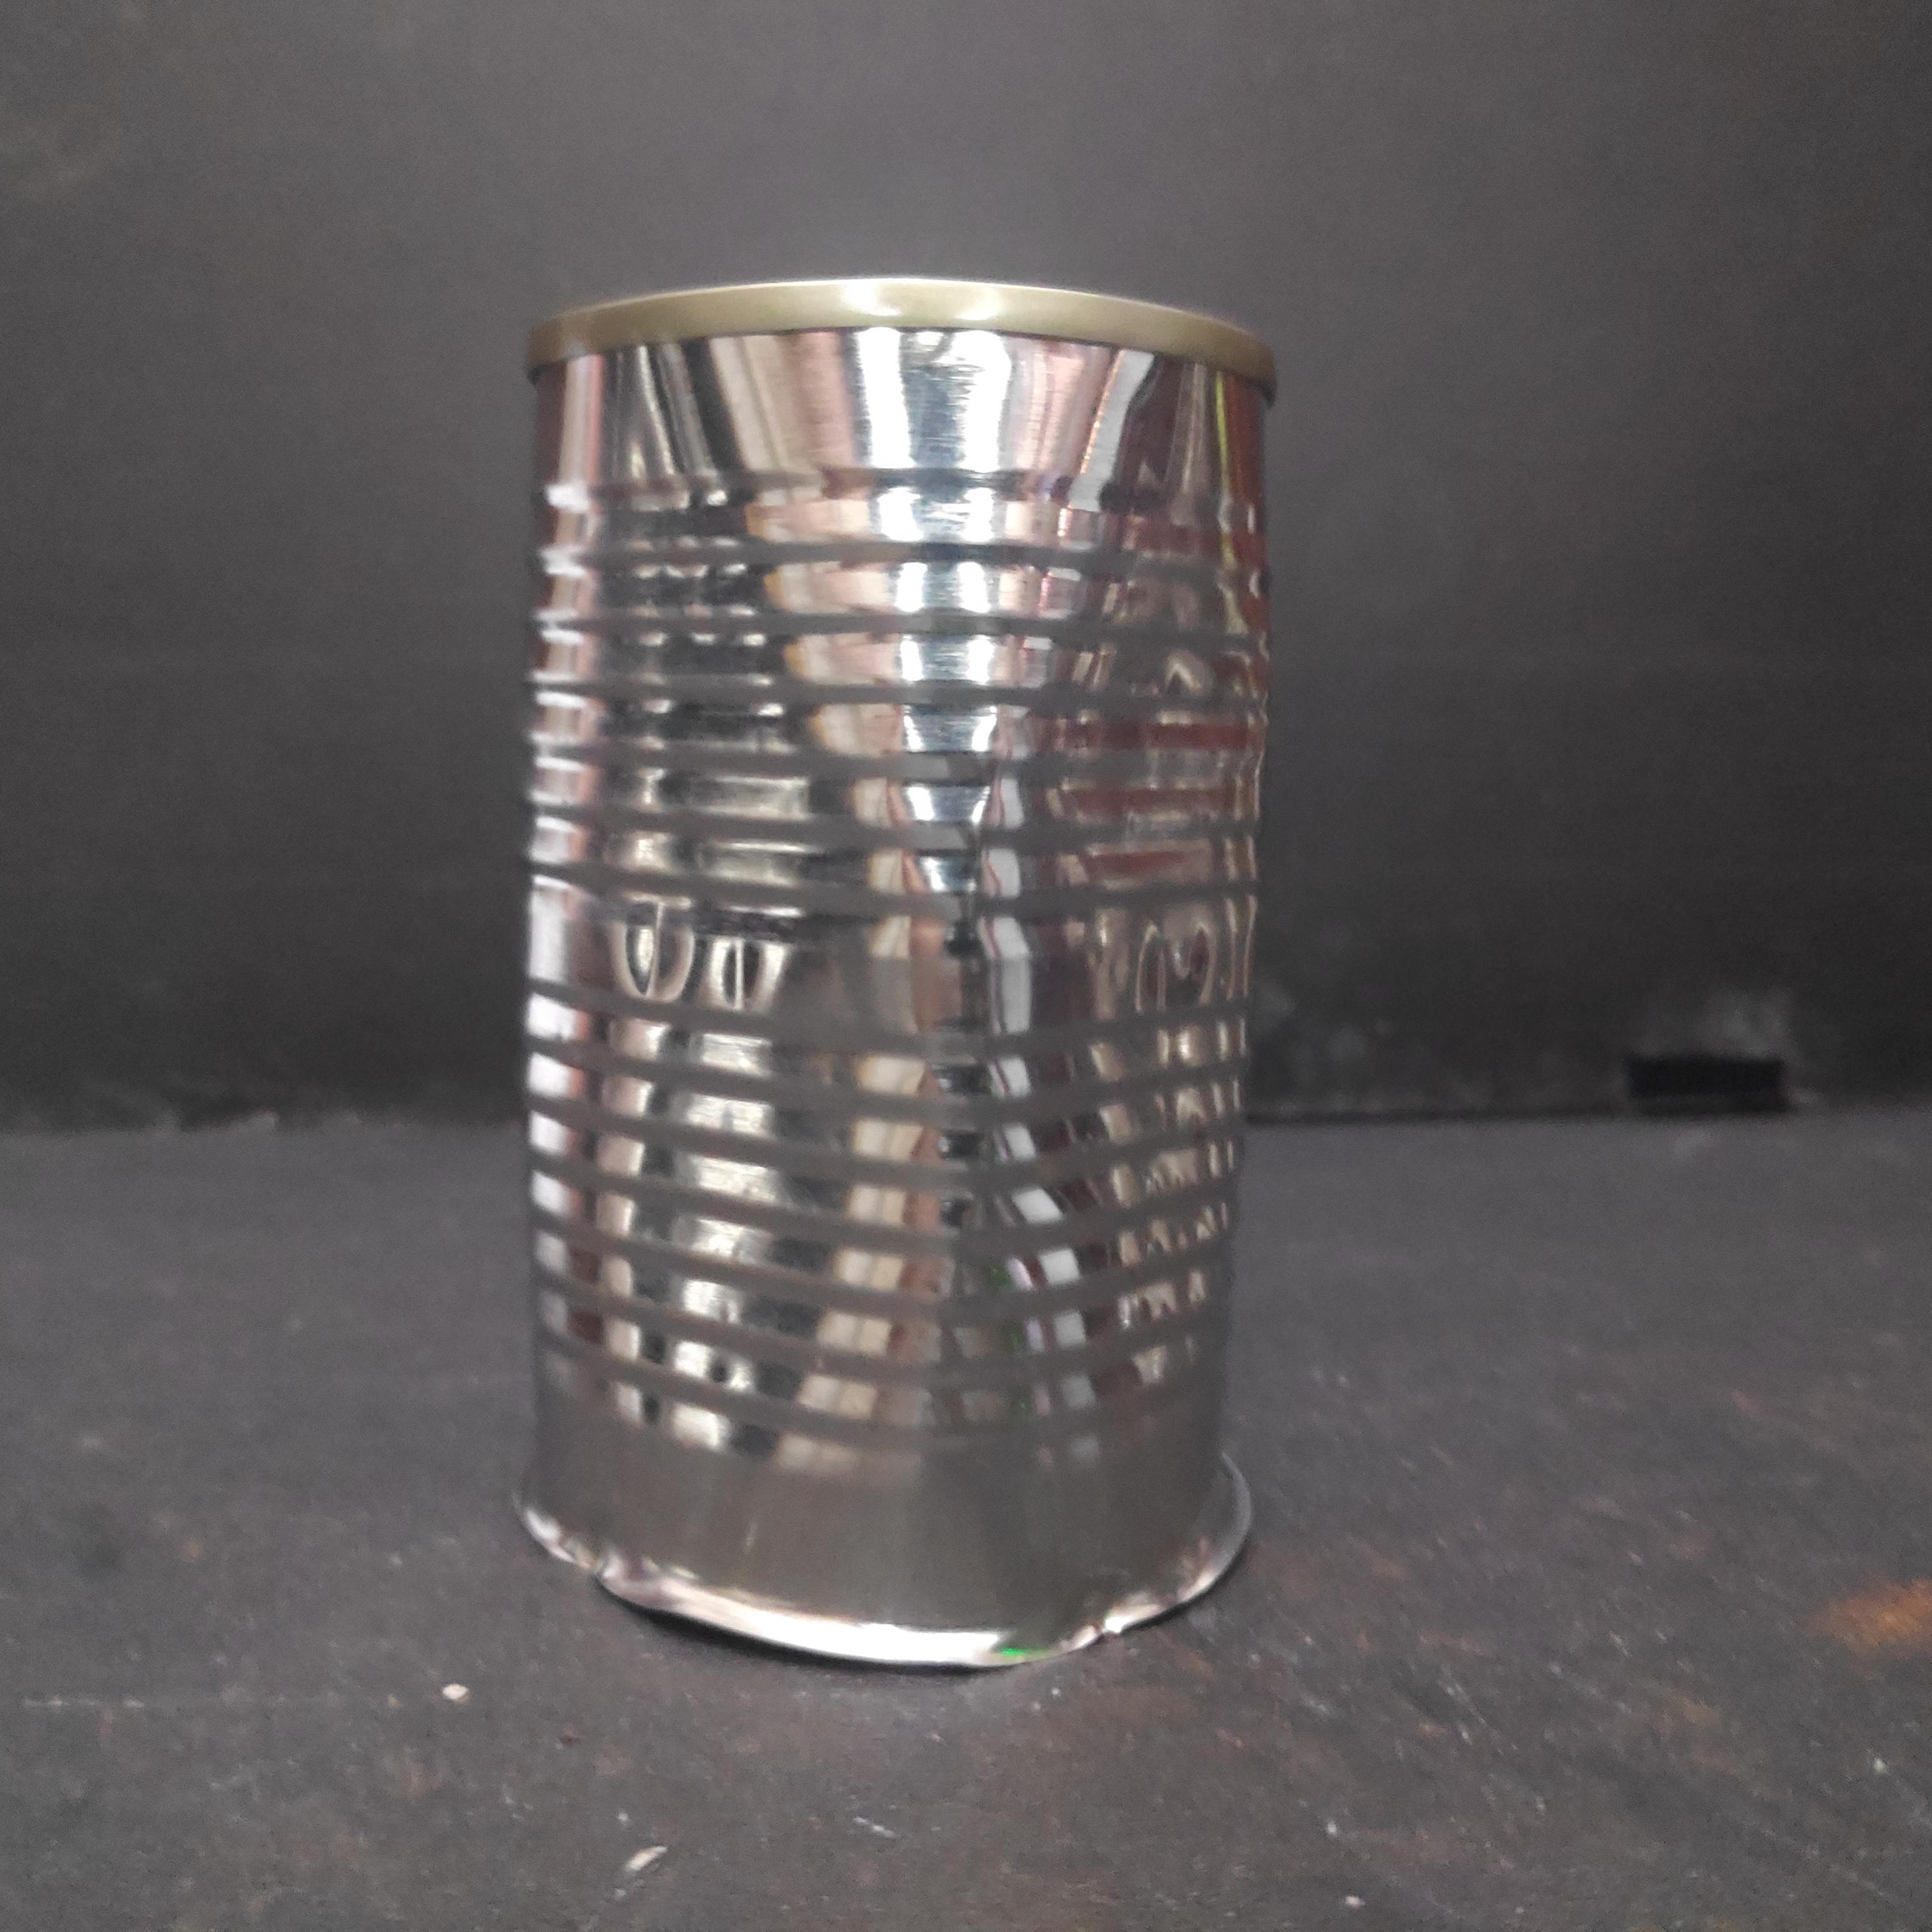Minor Defect: (502, 272, 1292, 1677)
